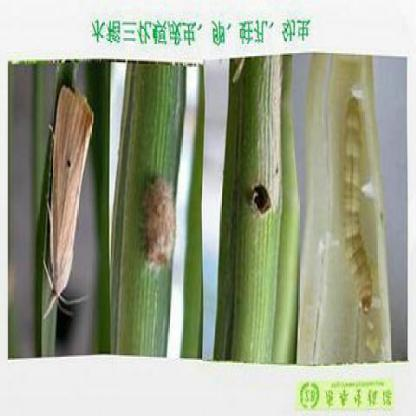stem-borer: (41, 84, 94, 319)
